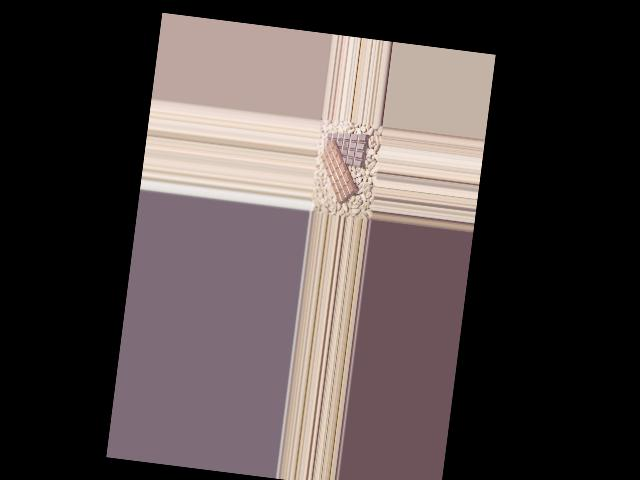chocolate: (321, 125, 371, 168)
